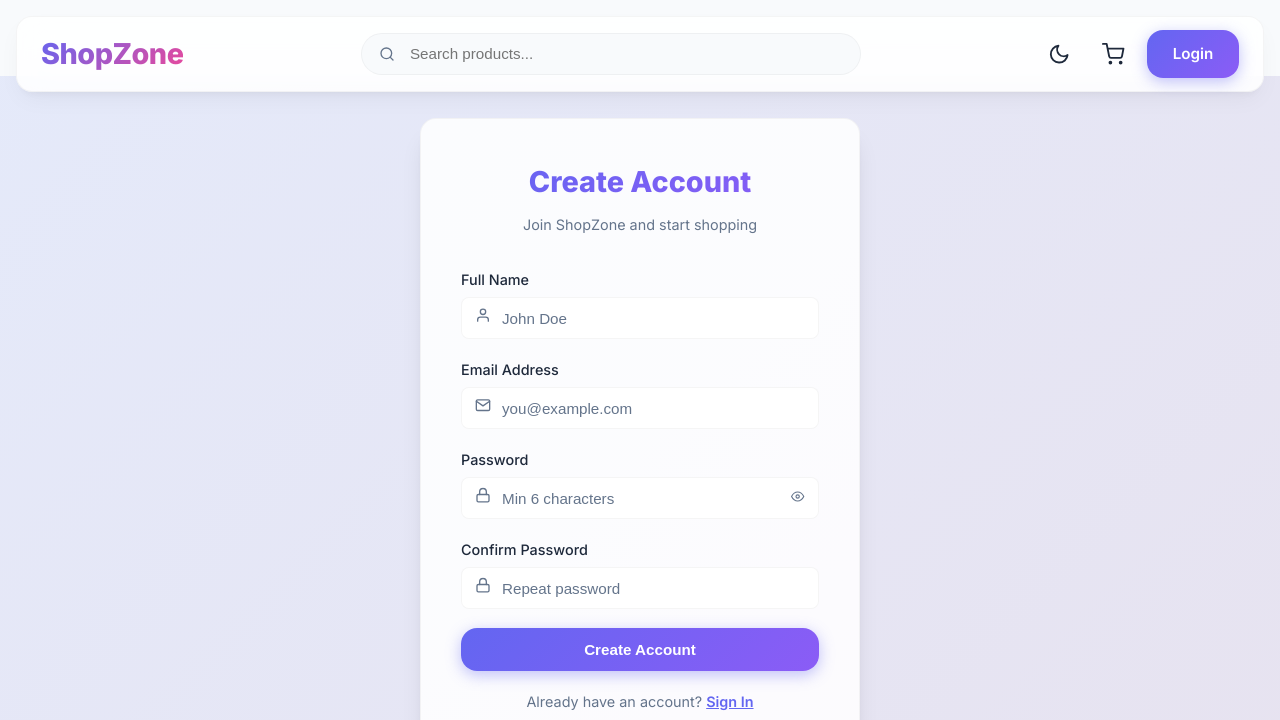
Test: Authentication Tests › Registration › should show error for short password
In the password field with test id "password-input": (640, 499) [461,478,819,519], type "123"
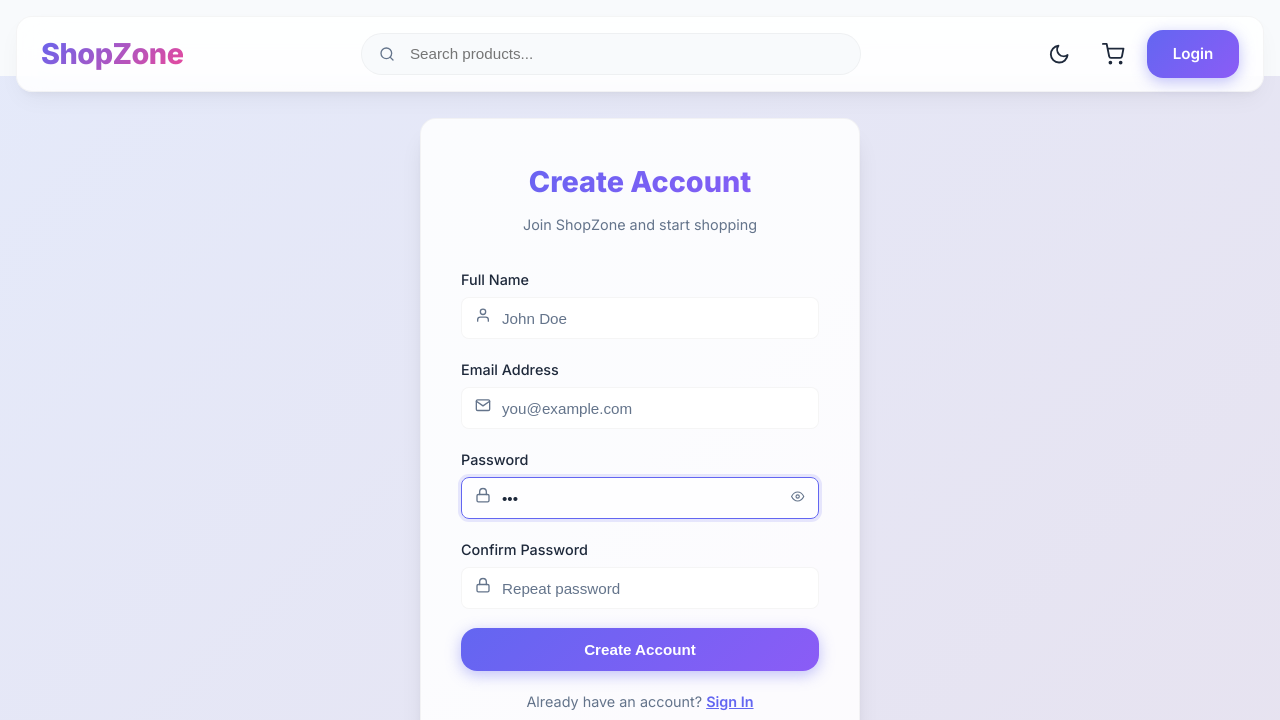
Click the button with test id "register-submit": click(640, 650) [461,628,819,671]
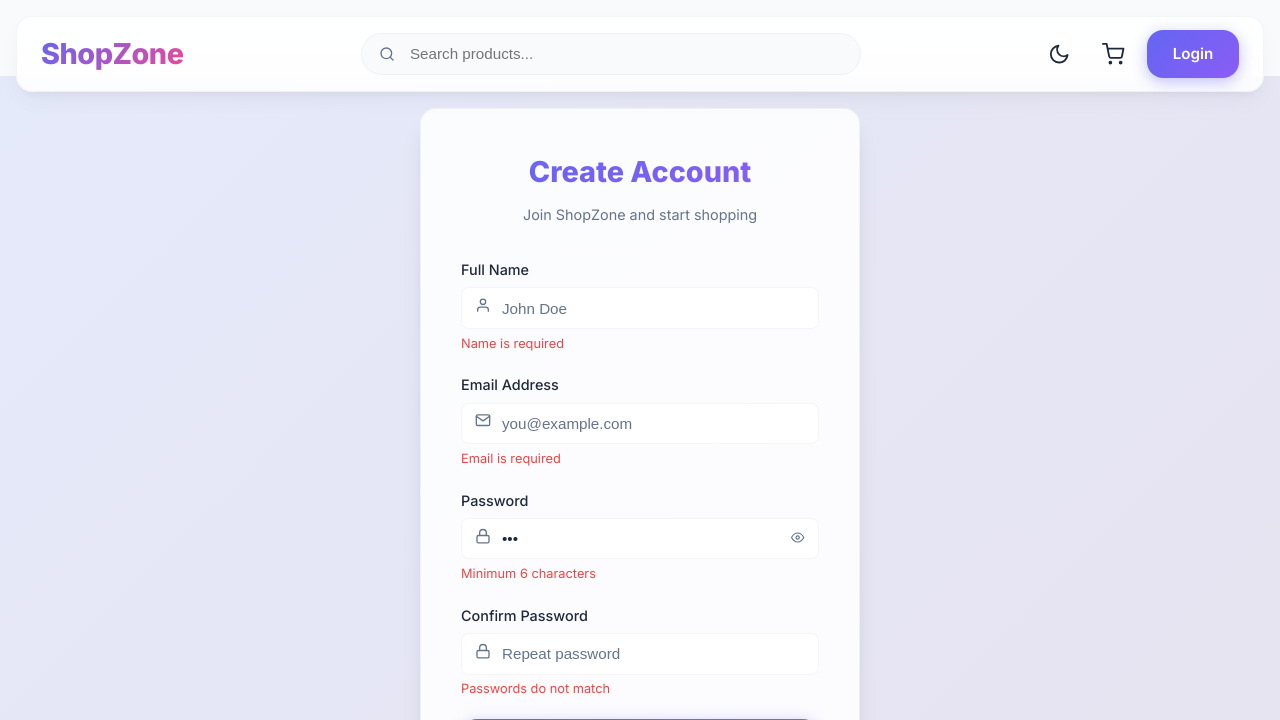
Now the text with test id "password-error" shows "Minimum 6", box [461,566,596,581]
